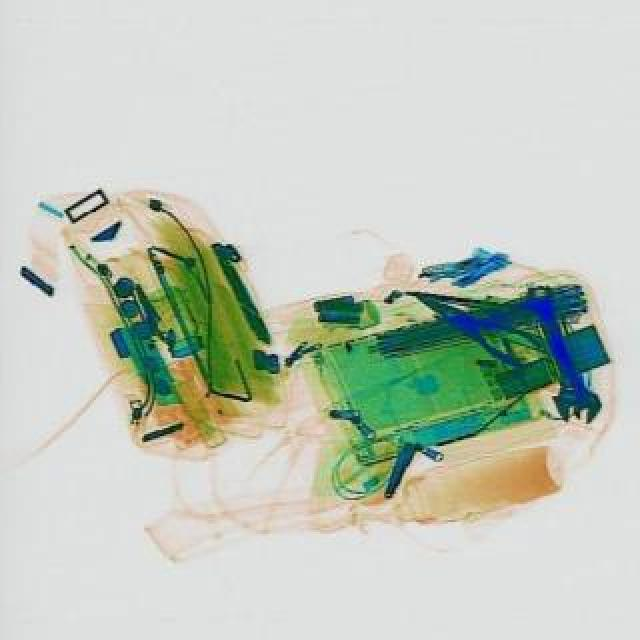scissors: (516, 276, 604, 428)
wrench: (404, 278, 542, 370)
